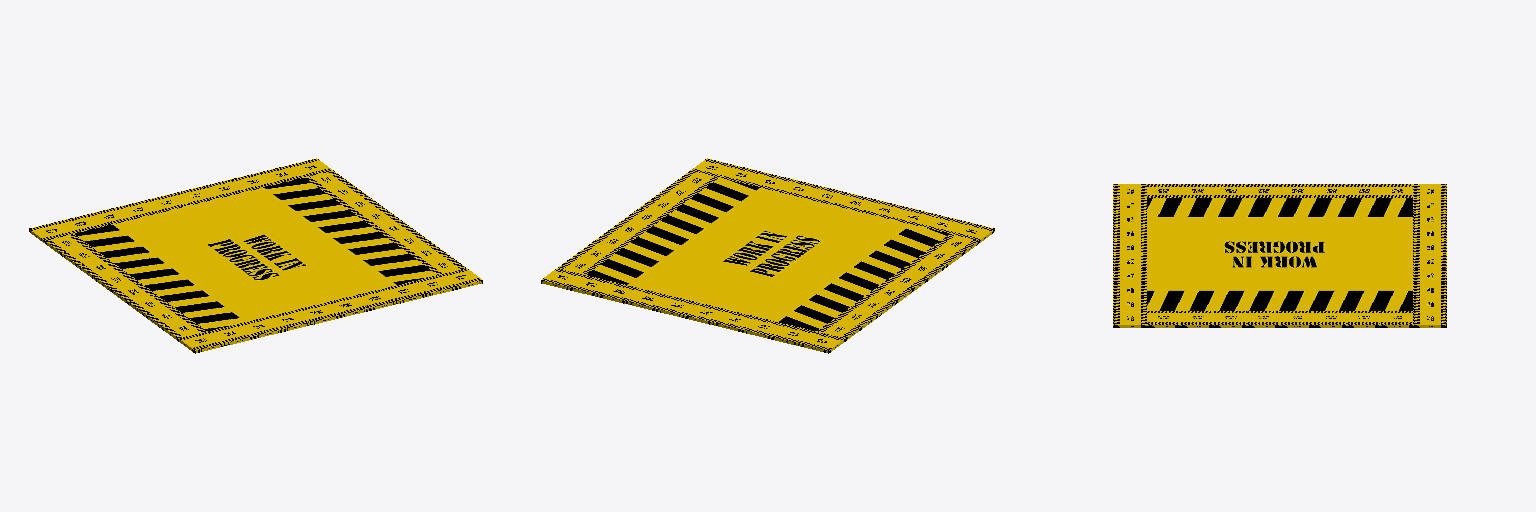
3 renders of one model, left to right at view 1: azimuth 30°, elevation 25°; view 2: azimuth 150°, elevation 25°; view 3: azimuth 270°, elevation 25°, orthographic.
Parts seen in each view (by area): view 1: Cube.041, Cube.021, Cube.025, Cube.022, Cube.028, Cube.029, Cube.023, Cube.026, Cube.027, Cube.024, Cube.030; view 2: Cube.041, Cube.040, Cube.036, Cube.033, Cube.039, Cube.032, Cube.035, Cube.038, Cube.034, Cube.037, Cube.031; view 3: Cube.041, Cube.015, Cube.018, Cube.030, Cube.031, Cube.013, Cube.014, Cube.016, Cube.017, Cube.019, Cube.020.
Boxes of the visible parts, box(x1,y1,x2,y2) form: Cube.041: box(75, 178, 436, 330); Cube.021: box(178, 332, 223, 353); Cube.025: box(294, 303, 338, 324); Cube.022: box(207, 325, 252, 345); Cube.028: box(381, 282, 425, 303); Cube.029: box(410, 275, 454, 296); Cube.023: box(236, 317, 281, 338); Cube.026: box(323, 296, 367, 317); Cube.027: box(352, 289, 396, 310); Cube.024: box(265, 310, 309, 331); Cube.030: box(439, 268, 482, 289); Cube.041: box(587, 178, 948, 330); Cube.040: box(800, 332, 845, 353); Cube.036: box(685, 303, 729, 324); Cube.033: box(598, 282, 642, 303); Cube.039: box(771, 325, 816, 345); Cube.032: box(569, 275, 613, 296); Cube.035: box(656, 296, 700, 317); Cube.038: box(742, 317, 787, 338); Cube.034: box(627, 289, 671, 310); Cube.037: box(714, 310, 758, 331); Cube.031: box(541, 268, 584, 289); Cube.041: box(1147, 198, 1412, 310); Cube.015: box(1213, 311, 1246, 327); Cube.018: box(1313, 311, 1346, 327); Cube.030: box(1113, 311, 1146, 327); Cube.031: box(1413, 311, 1446, 327); Cube.013: box(1147, 311, 1179, 327); Cube.014: box(1180, 311, 1212, 327); Cube.016: box(1247, 311, 1279, 327); Cube.017: box(1280, 311, 1312, 327); Cube.019: box(1347, 311, 1379, 327); Cube.020: box(1380, 311, 1412, 327).
Size of the model in its own units: 20 by 0.2 by 20.
Materials: 1 (1 with a texture image).